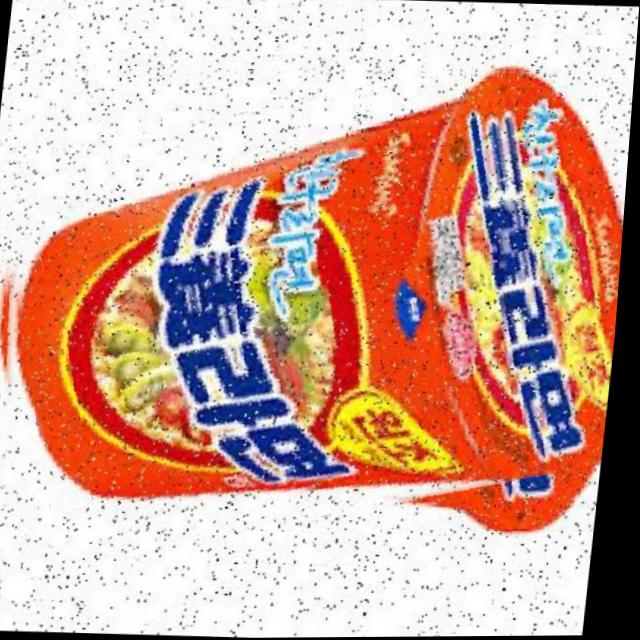Miscellaneous: (0, 50, 637, 544)
